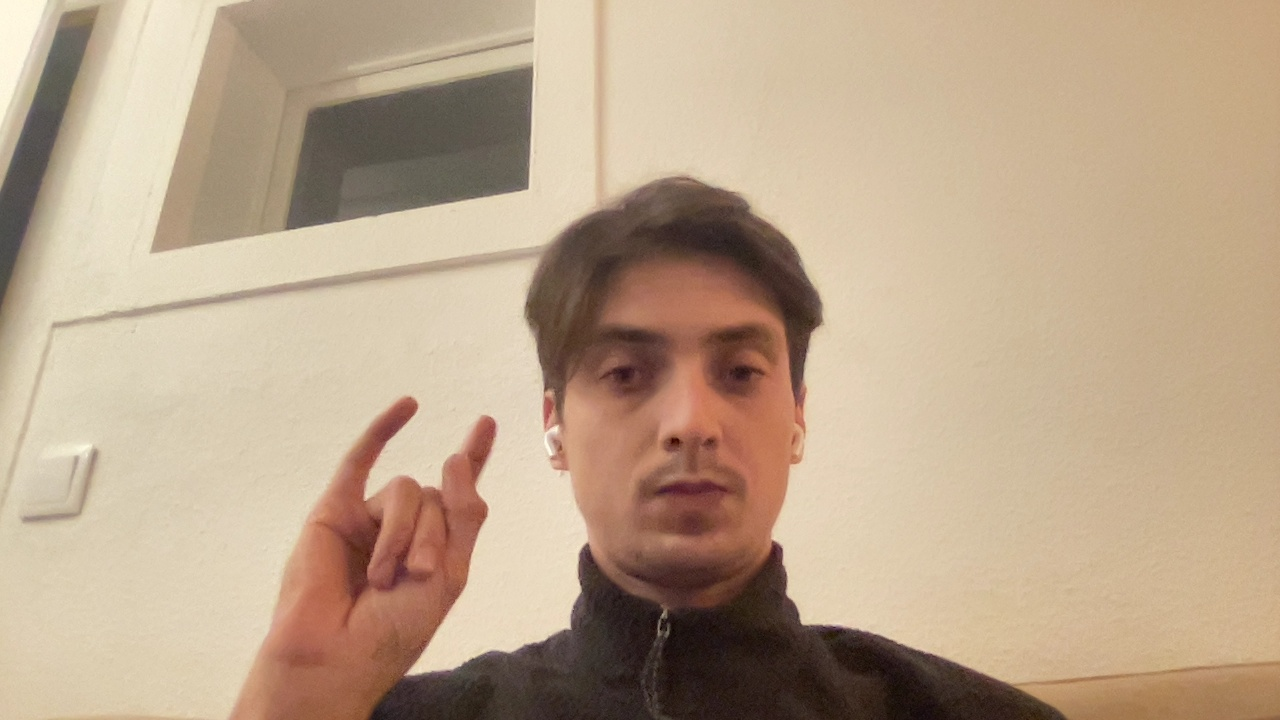I Love You: (240, 361, 519, 686)
